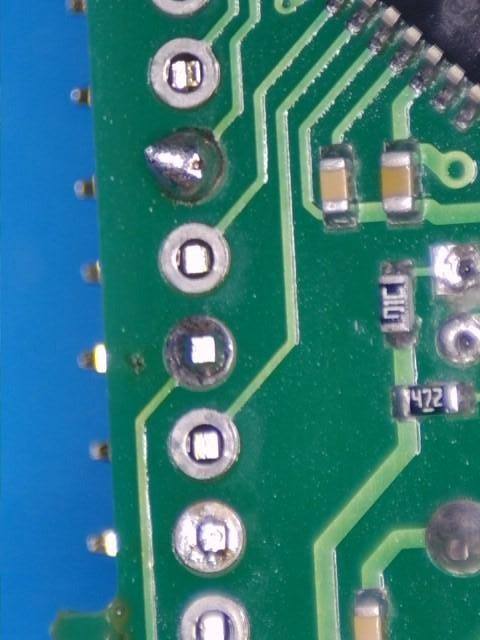pcb_defect: (144, 131, 221, 201), (165, 317, 234, 387), (174, 503, 243, 572)
